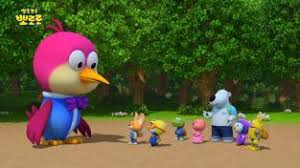Harry: (25, 18, 110, 147)
